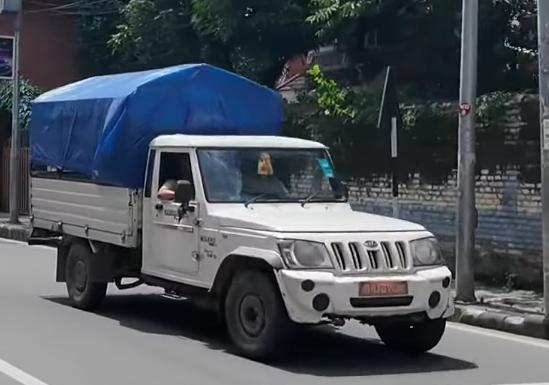transport_vehicle: (17, 61, 457, 358)
